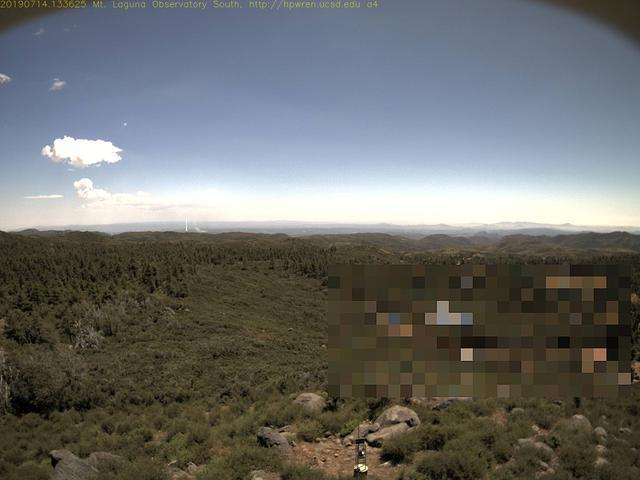smoke: (188, 212, 210, 233)
